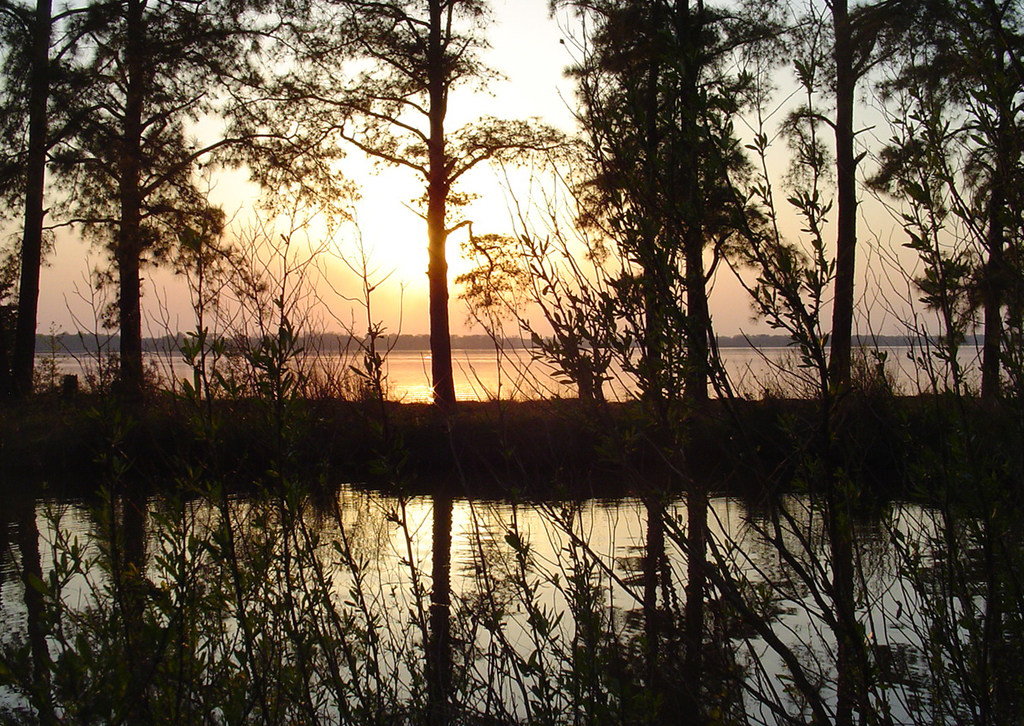Tree: (0, 0, 1023, 420)
